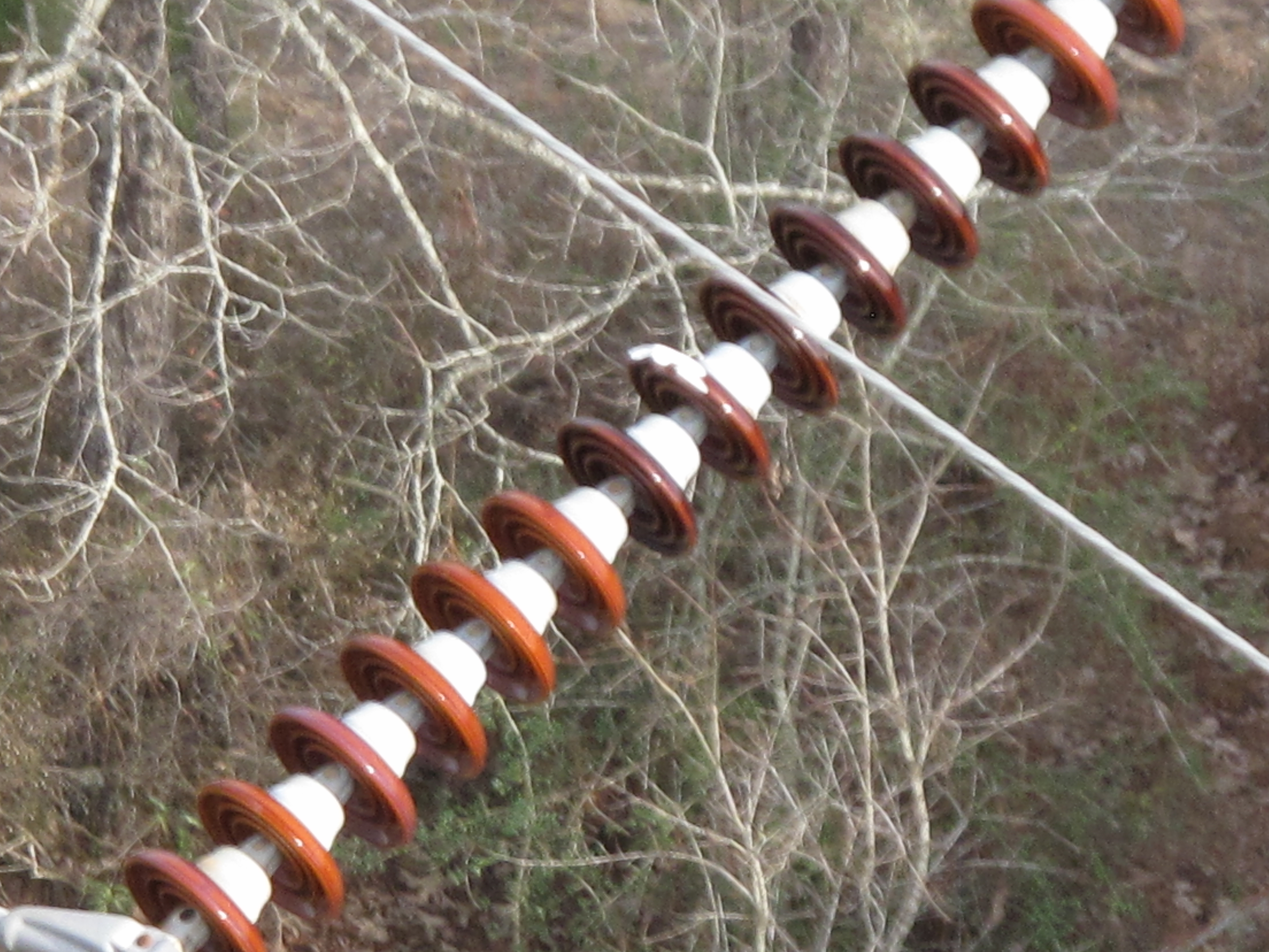damaged: (625, 338, 720, 406)
insulator: (131, 0, 1189, 951)
